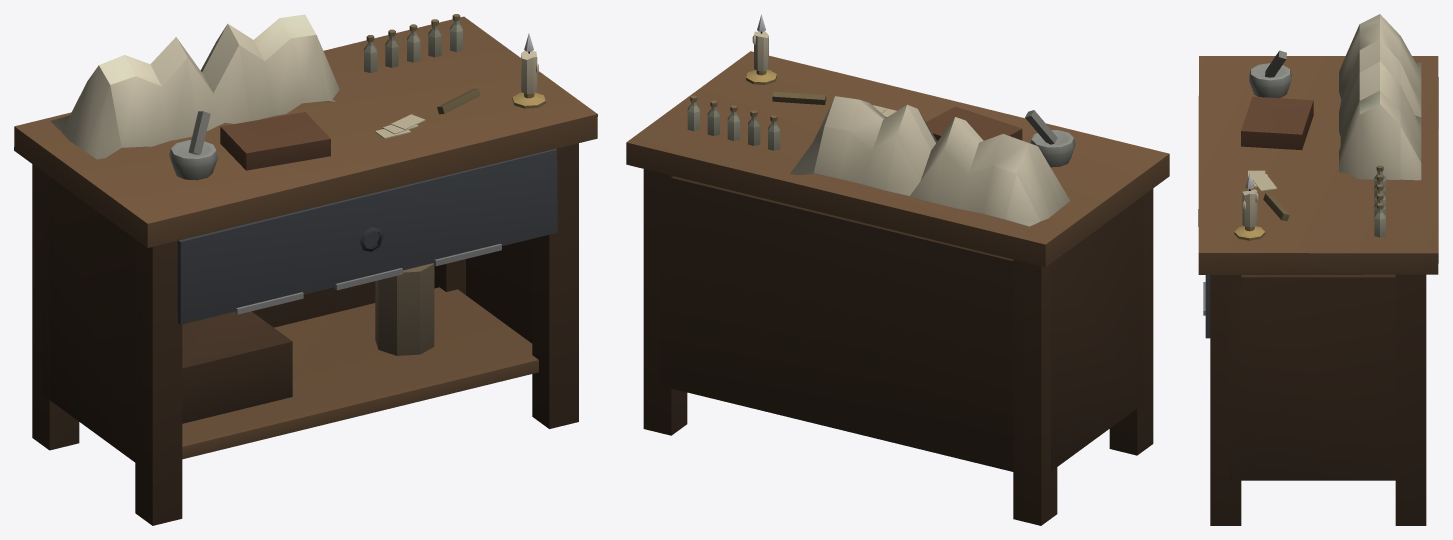
File: ph_int_pult.glb
3 views of the same model, side by side, from view 1: azimuth 30°, elevation 25°; view 2: azimuth 150°, elevation 25°; view 3: azimuth 270°, elevation 25° (orthographic). The views are drawn at different scales.
Parts seen in each view (by area): view 1: ph_int_pult; view 2: ph_int_pult; view 3: ph_int_pult.
Part boxes in pixels (x1,y1,x2,y2): ph_int_pult: [14, 14, 597, 525]; ph_int_pult: [626, 14, 1169, 525]; ph_int_pult: [1198, 14, 1438, 525].
Bounding box in the file's own units: 1.36 × 1.13 × 0.7008.
